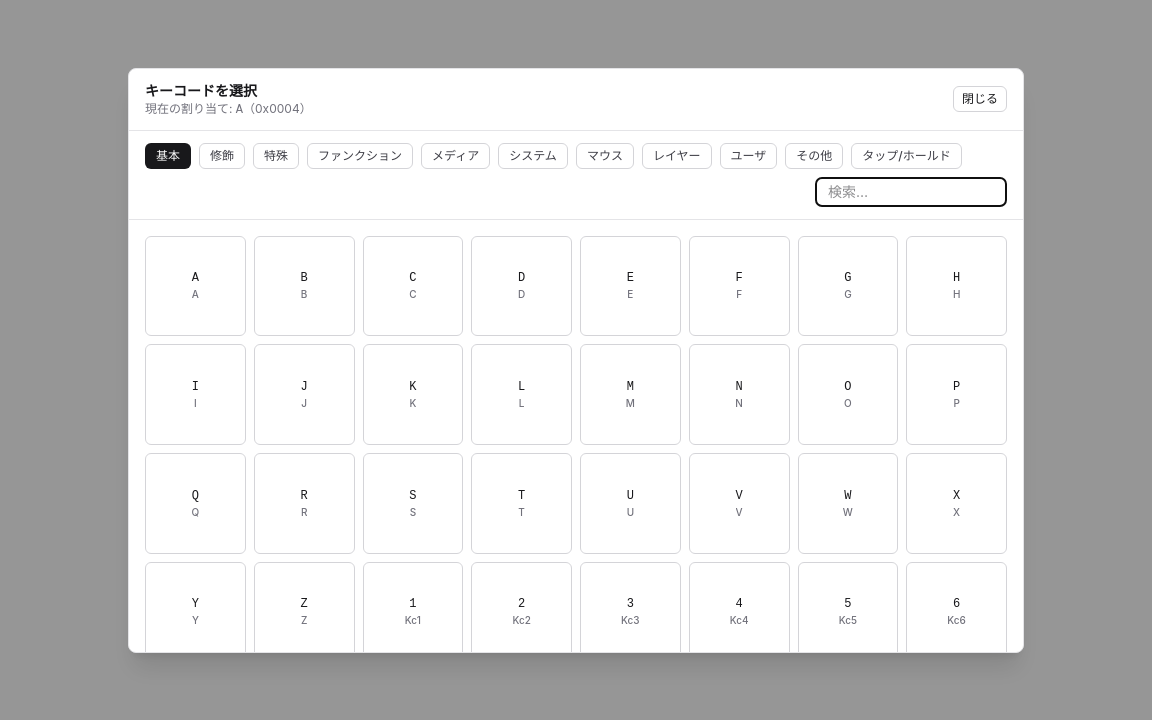
Test: KeycodePicker › selecting a User catalogue tab shows the customKeycode names
This screenshot has width=1152, height=720.
Click the button "ユーザ" at point(748, 156), box [720,142,777,168]
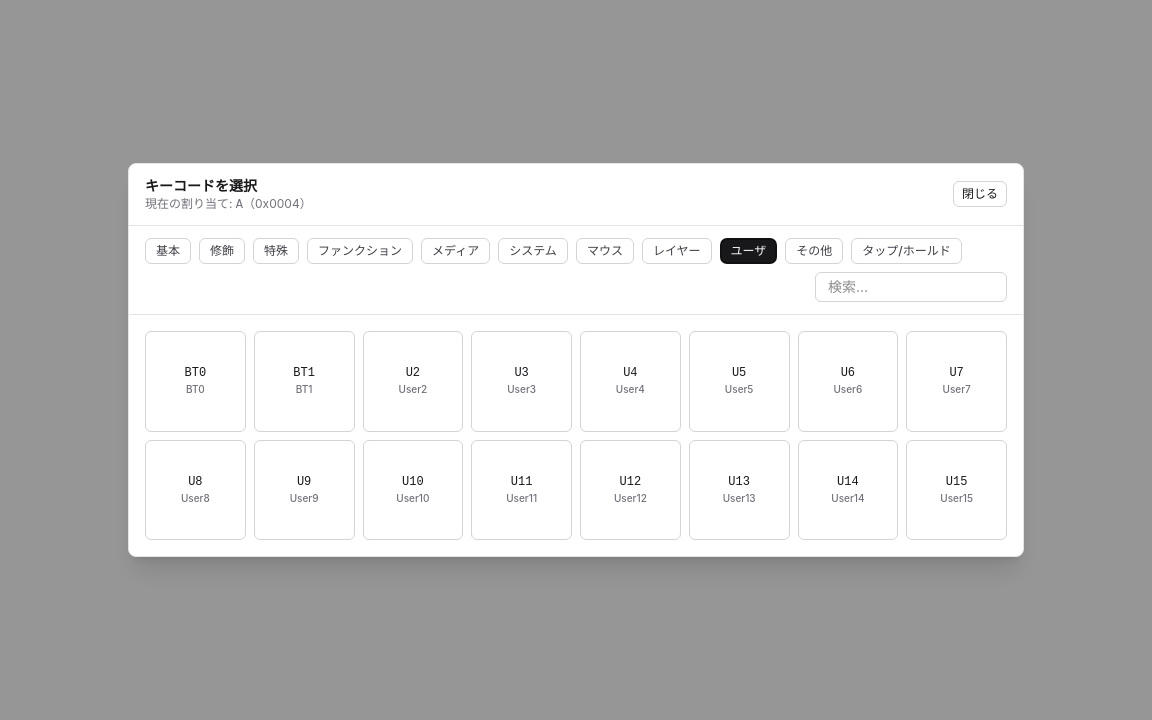
Result: the 1st text "BT0" is shown at [185,366,206,382]
Result: the 1st text "BT1" is shown at [293,366,315,382]
